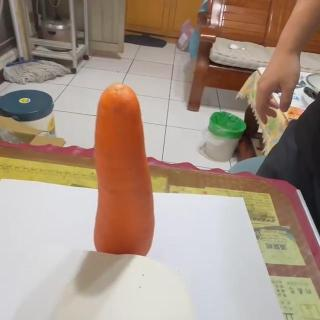carrot: (93, 83, 155, 255)
